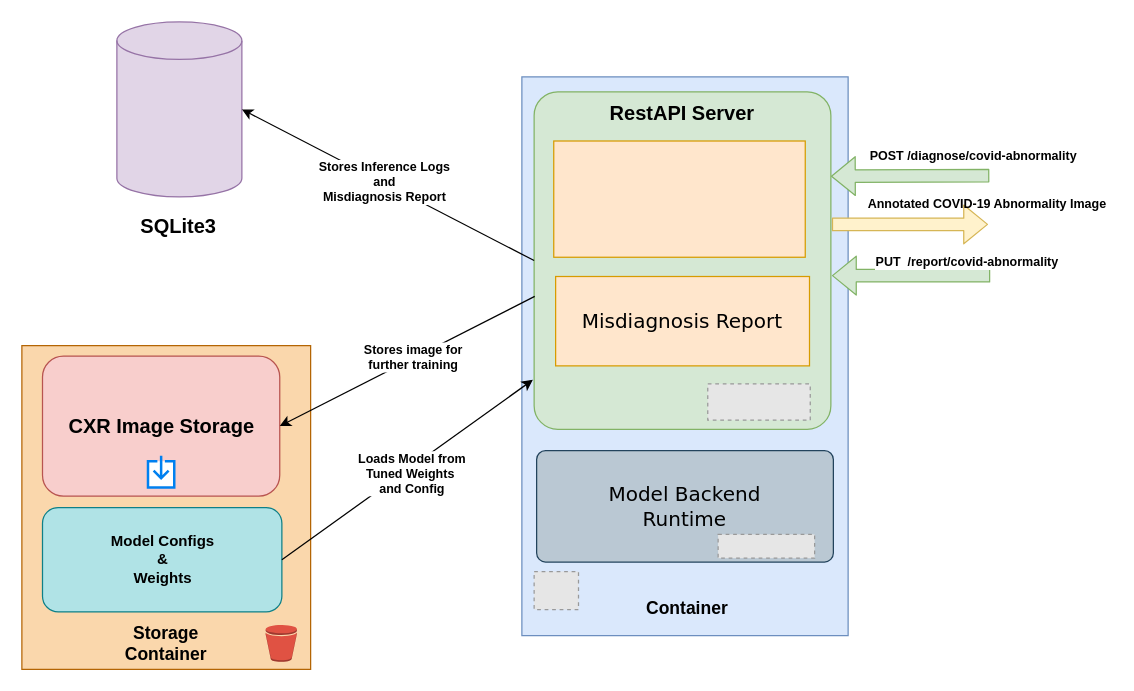
The diagram is 1134 pixels wide and 691 high, and some of its shapes have lost their labels. Grey dashed boxes stand in for pictures. The shapes that lost their labels are listed below. From the top down, each one's centre as x and y in pixels, then its label:
At (x=179, y=109): "Logs and Report Database".
At (x=678, y=198): "Abnormality Detection Model Inference".
